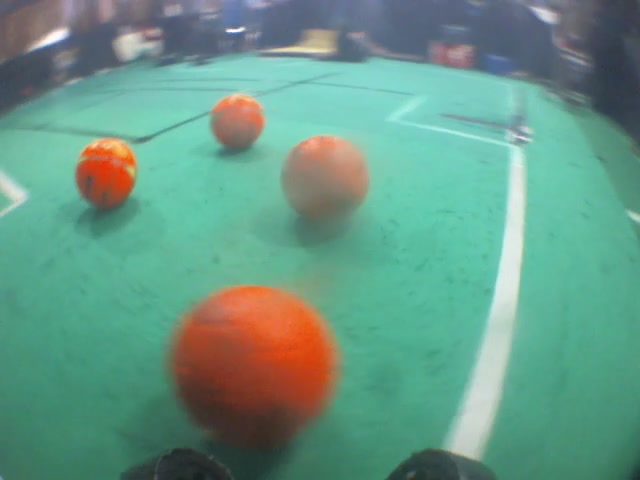ball: (163, 281, 343, 452), (277, 130, 371, 228), (67, 134, 144, 212), (203, 87, 269, 159)
